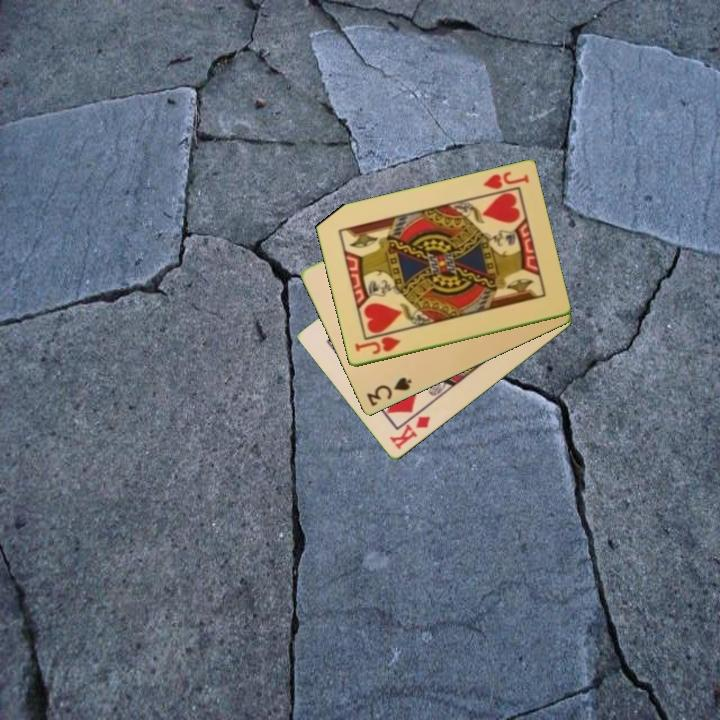3s: (363, 374, 415, 409)
Jh: (351, 333, 403, 358), (480, 168, 532, 193)
Kd: (386, 413, 434, 453)
